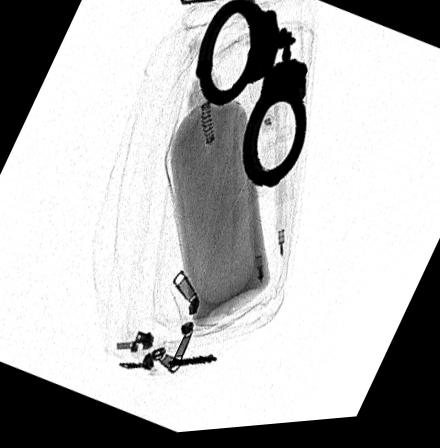HandCuffs: (196, 1, 308, 193)
